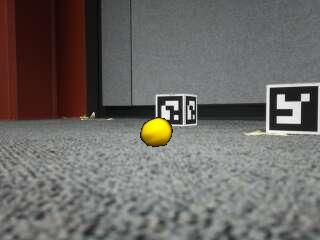lemon: (141, 119, 172, 146)
